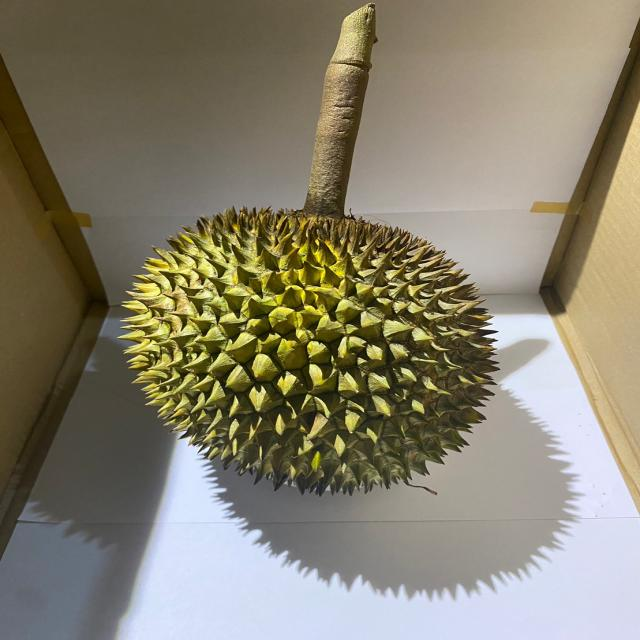immature: (116, 204, 504, 492)
